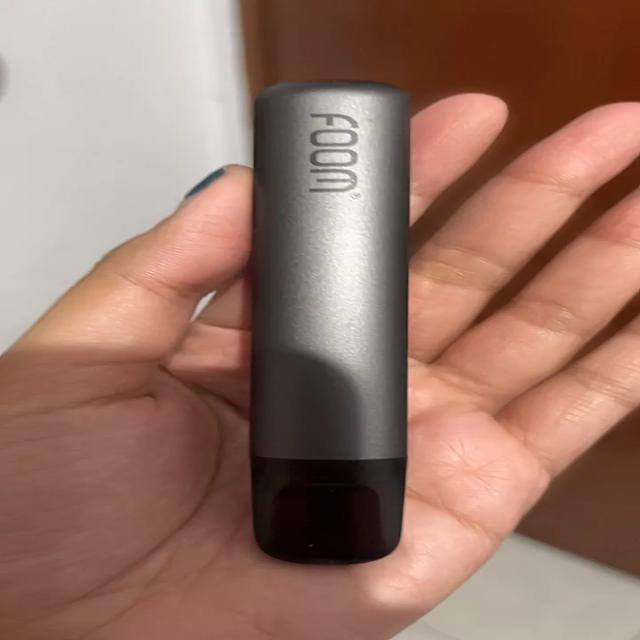Hazard: (252, 80, 415, 570)
